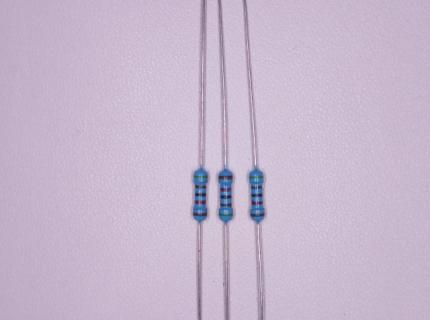Black band: (220, 195, 231, 199), (251, 194, 263, 197), (195, 193, 206, 196)
Brown band: (218, 175, 233, 179), (193, 212, 207, 216), (251, 213, 264, 217), (220, 203, 232, 207), (195, 185, 206, 188), (251, 186, 262, 189)
Green band: (249, 176, 264, 179), (219, 213, 232, 216), (194, 176, 207, 178)
Red band: (252, 200, 263, 205), (195, 200, 206, 204), (220, 188, 231, 191)
